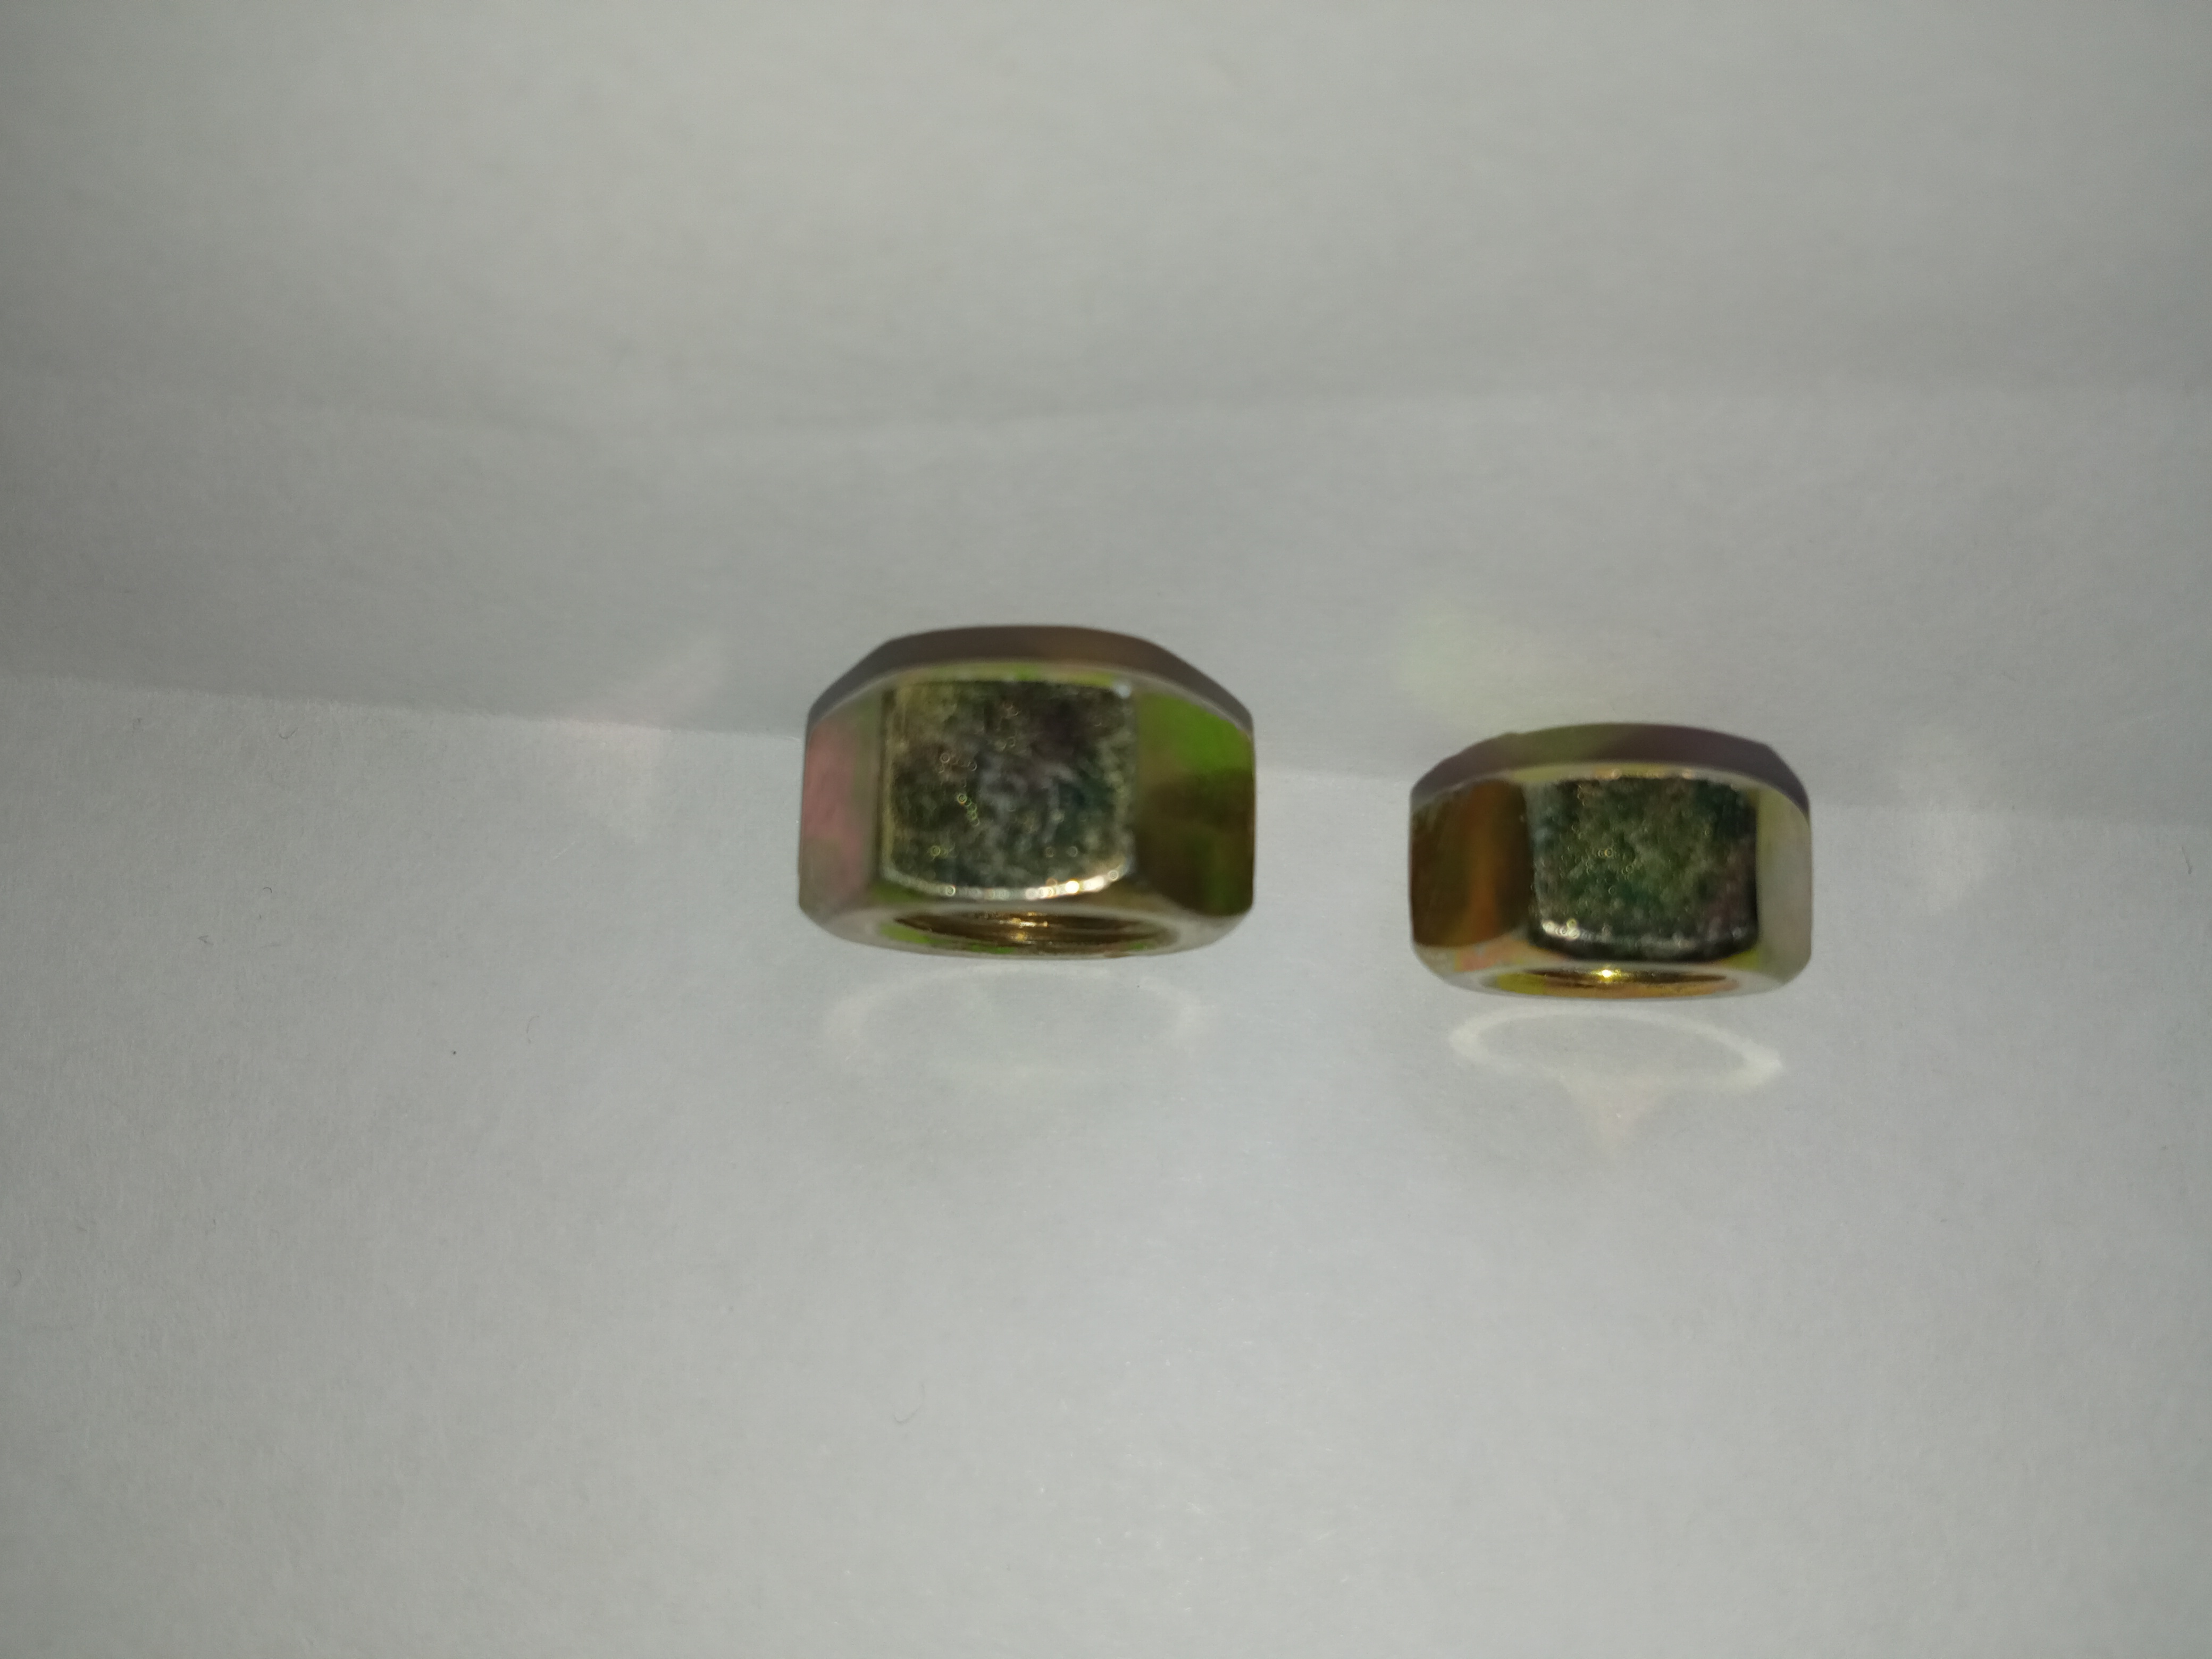m10: (782, 648, 1275, 978)
m8: (1413, 744, 1818, 1016)
